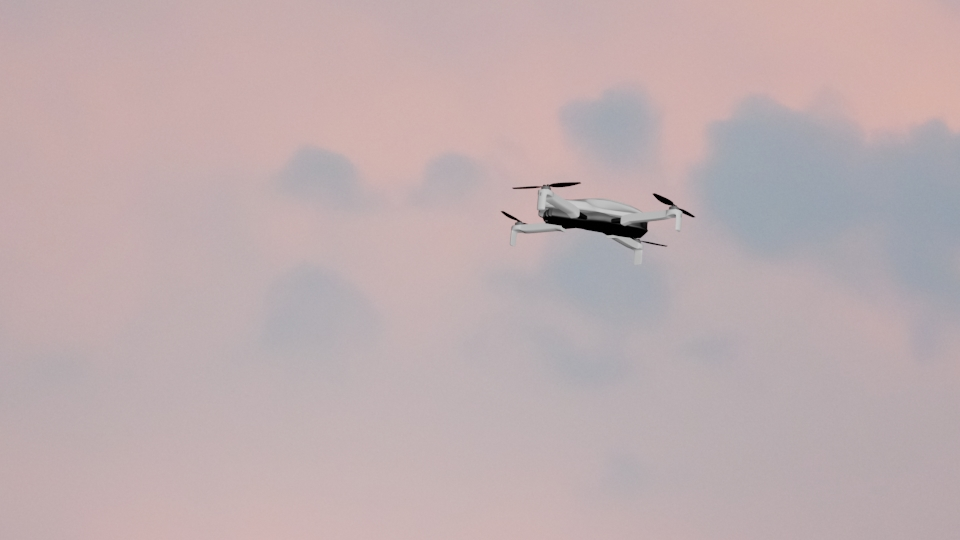drone: (500, 184, 691, 262)
